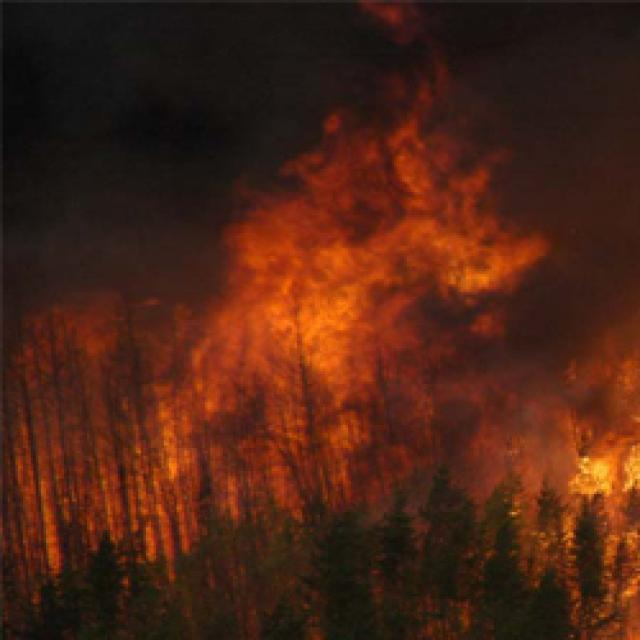Fire: (0, 282, 498, 572), (223, 97, 548, 285), (499, 335, 640, 640), (351, 0, 463, 93)
Smoke: (0, 0, 226, 289), (545, 8, 640, 332)
